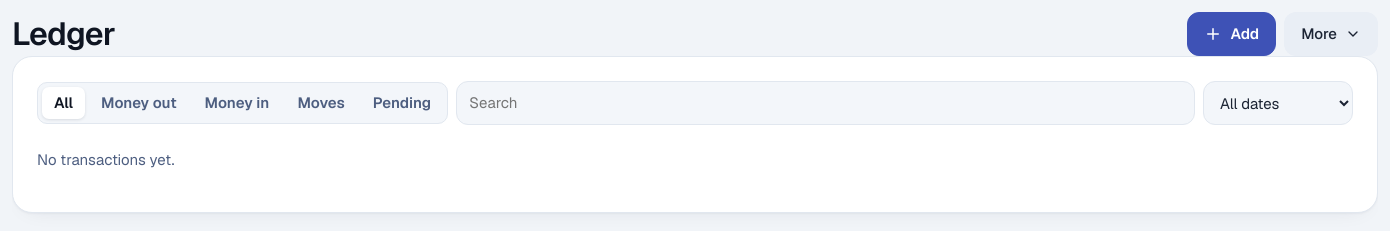
Test: Ledger › says when filters match nothing
Click the button "Money in". click: (237, 103)
box: [193,87,281,119]
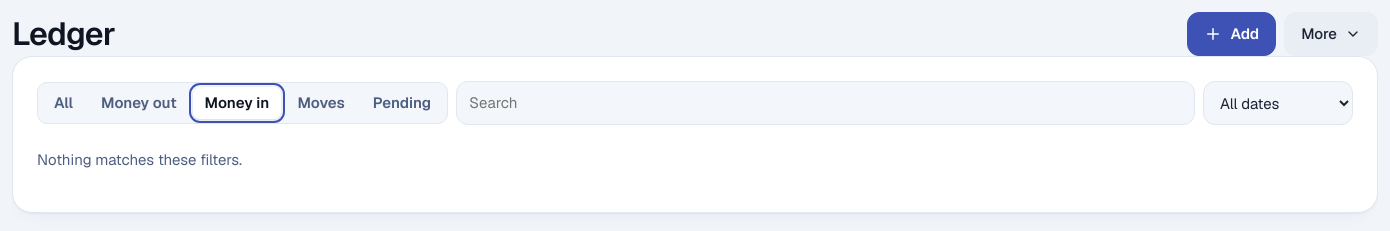
Expected: the text "Nothing matches these filters." is shown, [37,150,242,169]
